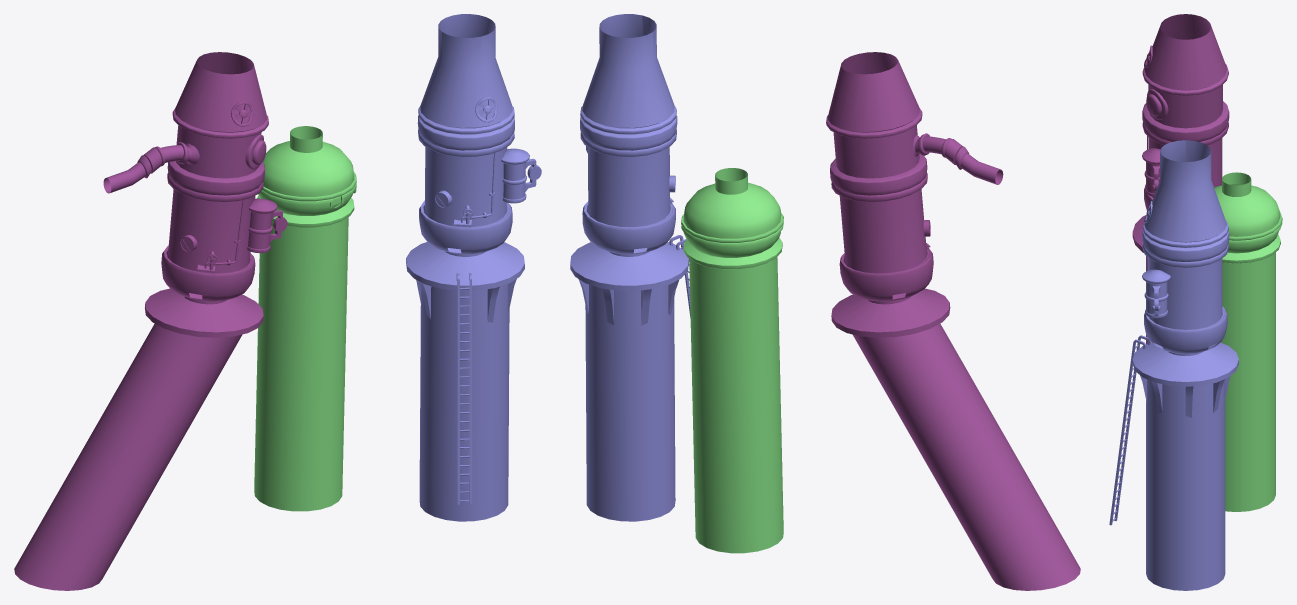
The model's file is Tanks 1.fbx.
The picture shows the model from 3 angles, left to right: view 1: azimuth 30°, elevation 25°; view 2: azimuth 150°, elevation 25°; view 3: azimuth 270°, elevation 25°; orthographic projection. The views are drawn at different scales.
Visible parts, largest first — view 1: Tank2, Tank1, Tank3; view 2: Tank2, Tank1, Tank3; view 3: Tank1, Tank3, Tank2.
Part boxes in pixels (box(x1,y1,x2,y2)): Tank2: box(14, 52, 287, 590); Tank1: box(406, 14, 541, 521); Tank3: box(254, 126, 356, 511); Tank2: box(826, 52, 1080, 590); Tank1: box(570, 14, 690, 521); Tank3: box(681, 168, 783, 553); Tank1: box(1109, 140, 1238, 590); Tank3: box(1214, 172, 1282, 511); Tank2: box(1132, 14, 1229, 344).
Size of the model in its own units: 14.43 by 13.68 by 4.82.
